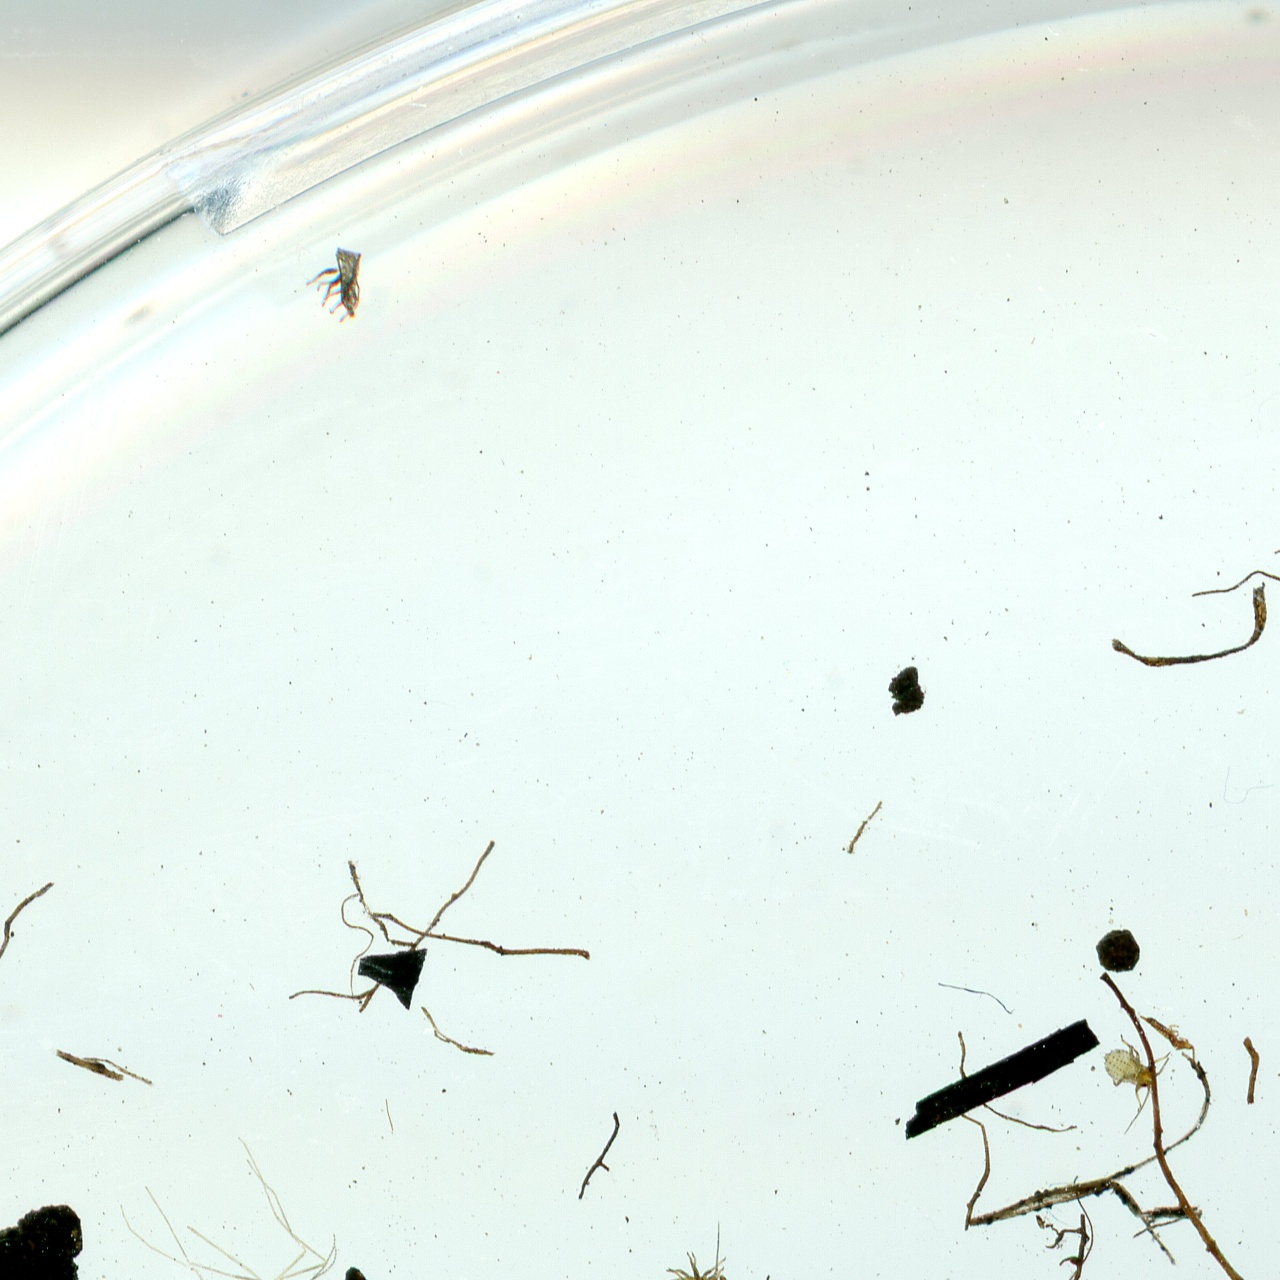arthropod: (109, 1132, 360, 1280), (1099, 1032, 1176, 1137), (662, 1218, 727, 1280)
